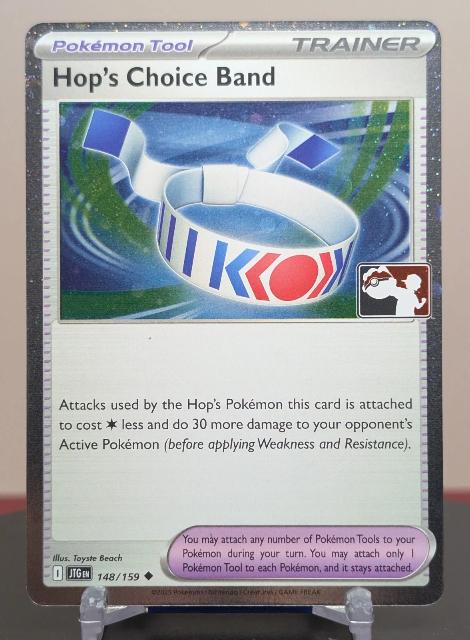Card: (23, 17, 450, 611)
Name: (48, 59, 282, 94)
